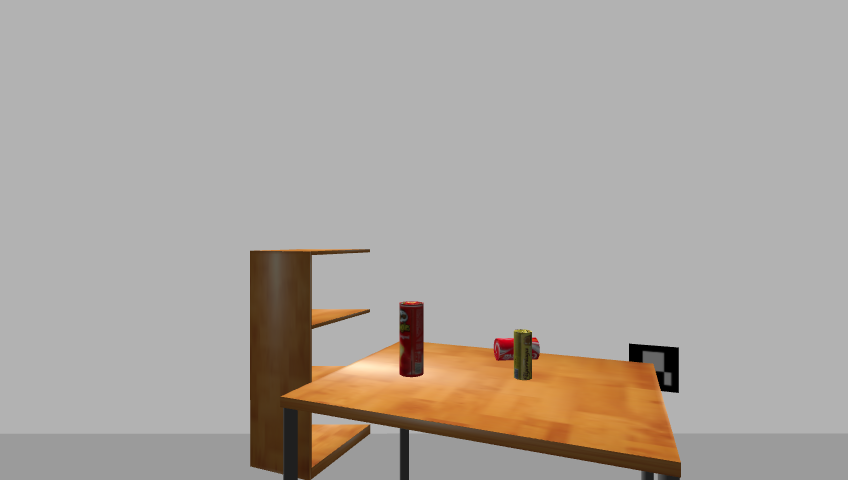aruco marker: (623, 341, 684, 395)
biscuits pack: (512, 329, 532, 381)
bookshelf: (245, 245, 376, 480)
coke can: (493, 339, 540, 360)
dinner table: (277, 339, 690, 479)
pringles can: (397, 301, 426, 379)
